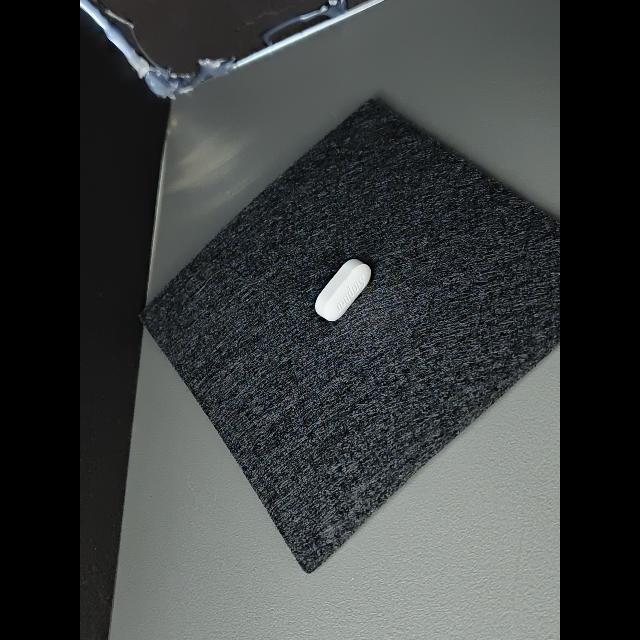Intact Pill: (315, 259, 371, 321)
